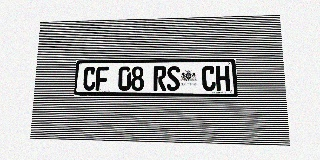0: (118, 66, 131, 91)
8: (131, 66, 144, 91)
C: (202, 66, 216, 91), (83, 67, 96, 91)
F: (95, 67, 109, 91)
H: (216, 66, 230, 91)
R: (153, 66, 166, 91)
S: (167, 66, 180, 91)
